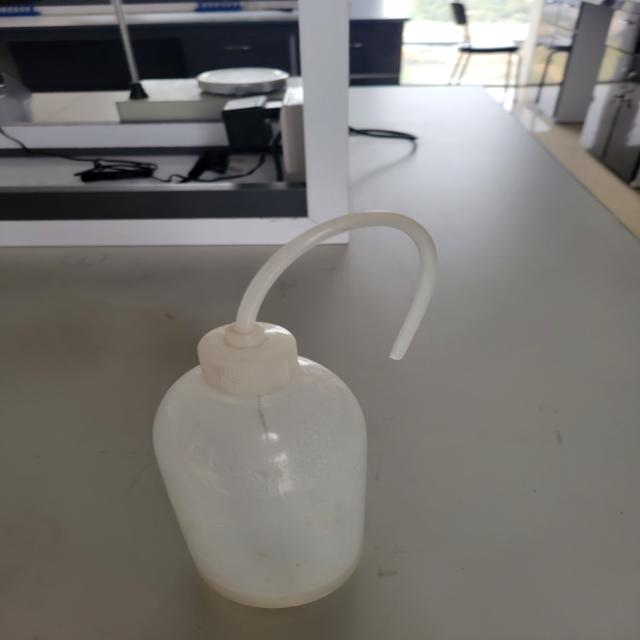Wash_Bottle: (115, 168, 495, 628)
